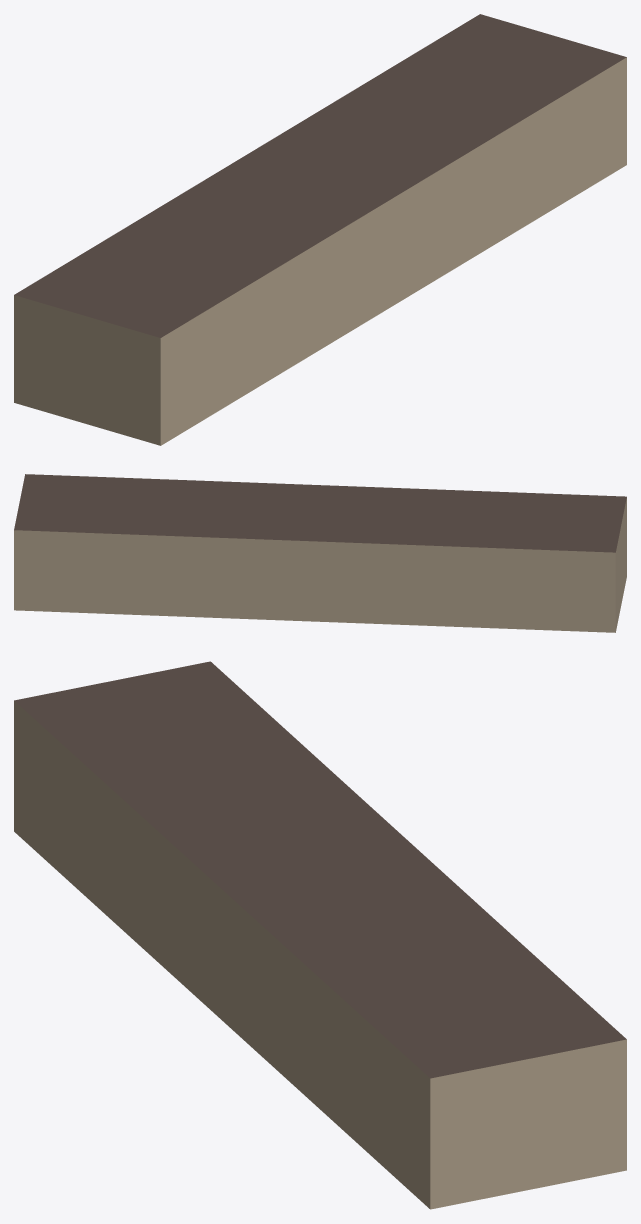
3 views of the same model, one above another, from view 1: azimuth 30°, elevation 25°; view 2: azimuth 150°, elevation 25°; view 3: azimuth 270°, elevation 25° (orthographic). The views are drawn at different scales.
Parts seen in each view (by area): view 1: HP-w369237933; view 2: HP-w369237933; view 3: HP-w369237933.
Part boxes in pixels (bbox=[...]): HP-w369237933: bbox=[14, 14, 626, 445]; HP-w369237933: bbox=[14, 474, 626, 632]; HP-w369237933: bbox=[14, 661, 626, 1209].
Size of the model in its own units: 61.43 by 9 by 38.15.
